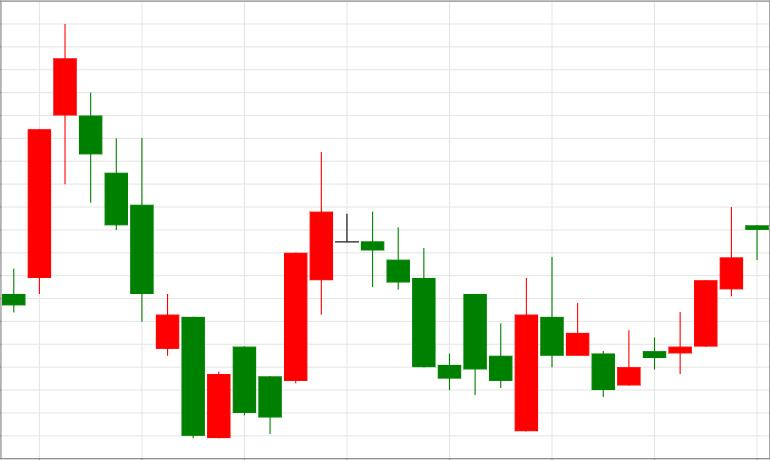bullish_engulfing_rise: (335, 211, 538, 432)
shooting_star_fall: (618, 207, 743, 387)
